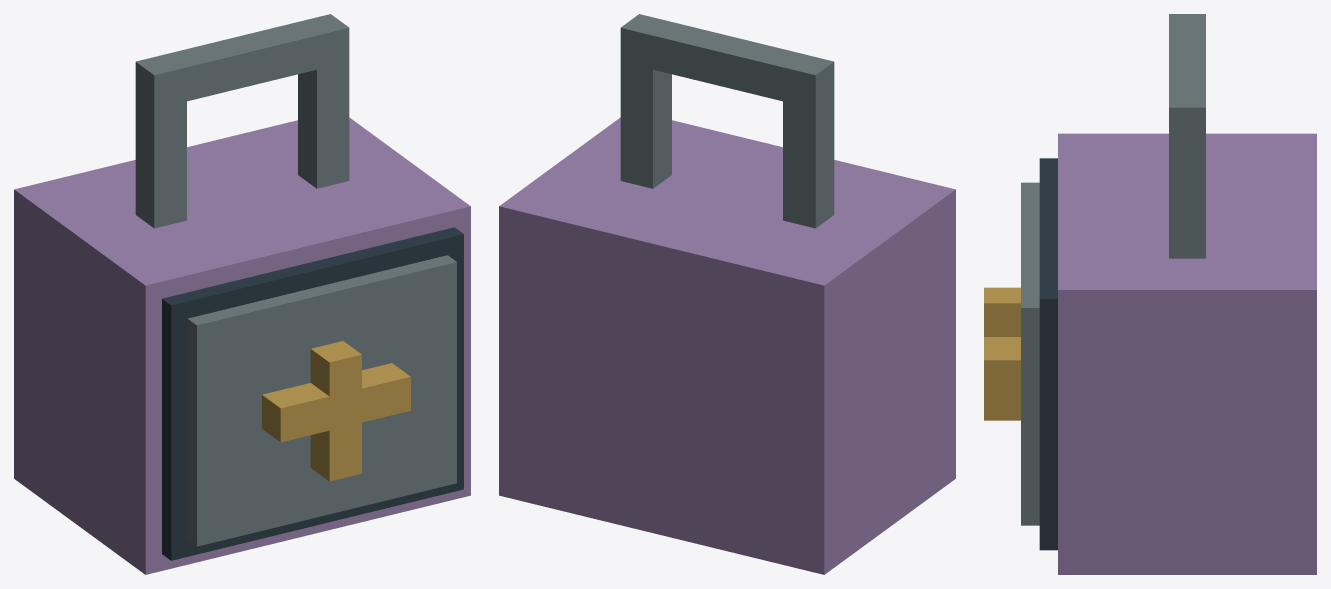
Rendered from crypto-17.glb.
The picture shows the model from 3 angles, left to right: view 1: azimuth 30°, elevation 25°; view 2: azimuth 150°, elevation 25°; view 3: azimuth 270°, elevation 25°; orthographic projection.
Parts seen in each view (by area): view 1: Wallet lock; view 2: Wallet lock; view 3: Wallet lock.
Part boxes in pixels (x1=…): Wallet lock: x1=14, y1=14, x2=470, y2=574; Wallet lock: x1=499, y1=14, x2=955, y2=574; Wallet lock: x1=984, y1=14, x2=1316, y2=574.
Size of the model in its own units: 1.6 by 2.08 by 1.44.
